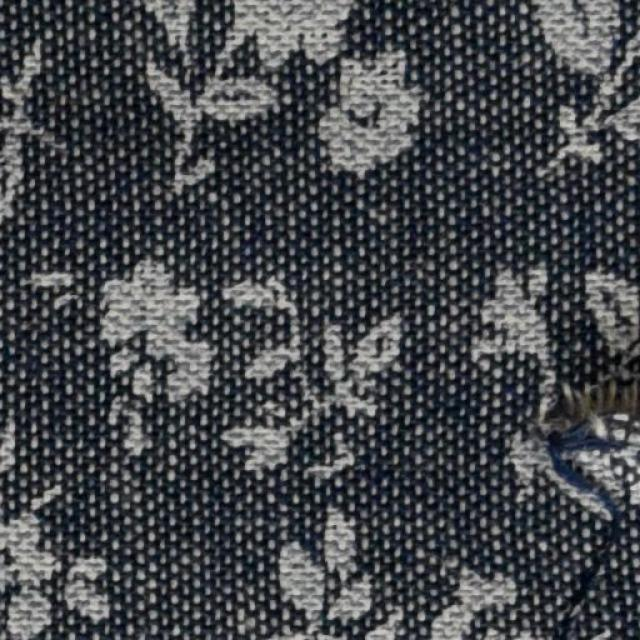Snag: (536, 359, 635, 471)
